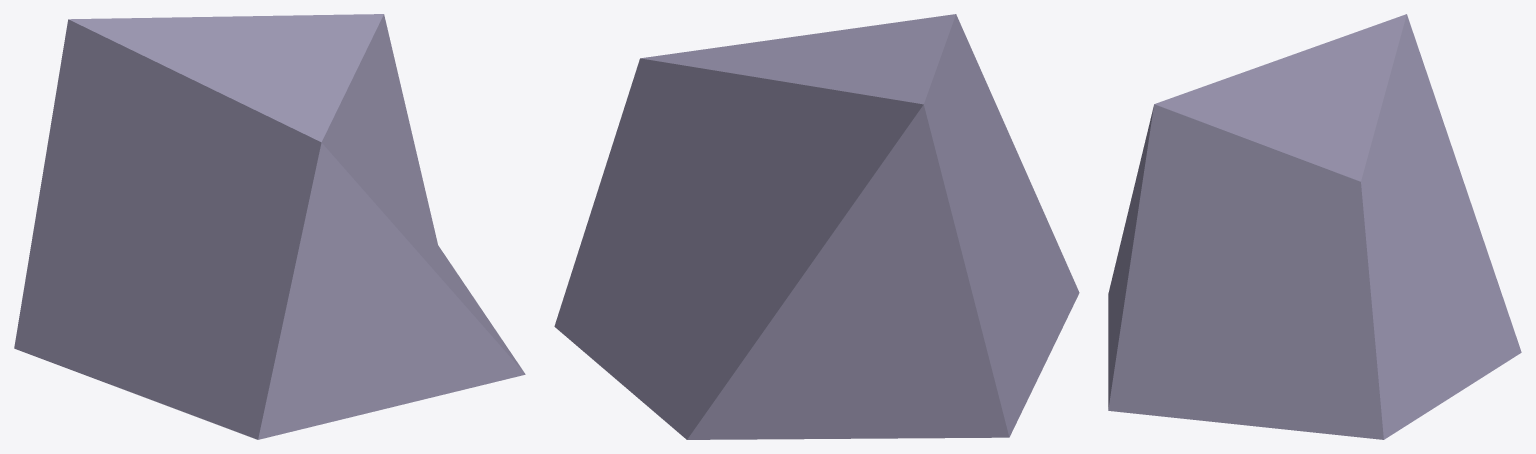
Rendered from rock.glb.
The picture shows the model from 3 angles, left to right: view 1: azimuth 30°, elevation 25°; view 2: azimuth 150°, elevation 25°; view 3: azimuth 270°, elevation 25°; orthographic projection. The views are drawn at different scales.
Visible parts, largest first — view 1: Rock; view 2: Rock; view 3: Rock.
Boxes of the visible parts, <box> form: Rock: <box>14,14,525,439</box>; Rock: <box>554,14,1079,439</box>; Rock: <box>1108,14,1521,439</box>.
Size of the model in its own units: 1.9 by 1.3 by 1.8.
